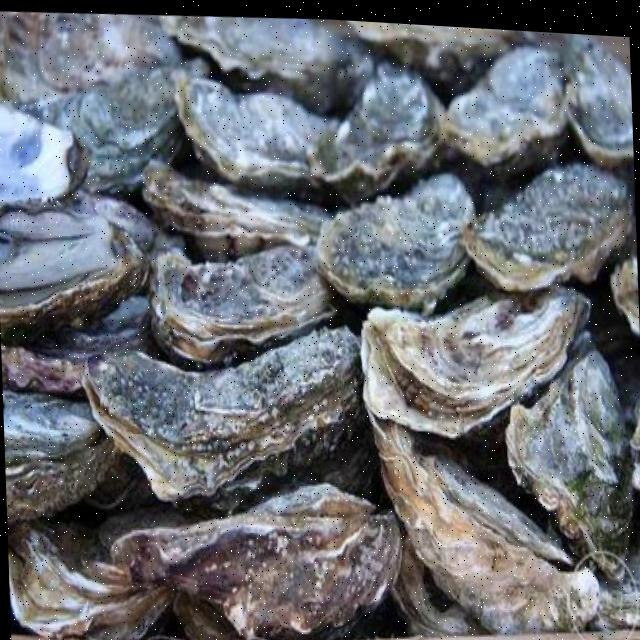Oyster-Closed: (358, 400, 611, 636), (74, 325, 366, 517), (105, 477, 407, 640), (488, 321, 640, 592), (139, 240, 351, 368), (130, 143, 345, 265), (304, 162, 480, 306), (455, 155, 631, 293), (1, 339, 131, 524), (169, 69, 346, 199)
Oyster-Indeterminate: (352, 279, 601, 445), (0, 93, 155, 343), (290, 50, 498, 201), (0, 52, 216, 197), (154, 15, 376, 113), (7, 513, 173, 640), (440, 34, 578, 180), (0, 11, 198, 110), (335, 20, 549, 98), (554, 33, 633, 177)
